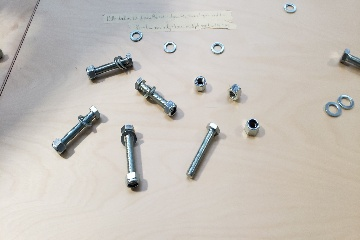Bolt: (183, 118, 223, 181)
FalseAssembly: (47, 102, 104, 158), (119, 122, 144, 190)
FinishedAssembly: (131, 76, 180, 119), (84, 51, 136, 81)
Nut: (242, 116, 263, 139), (227, 84, 244, 103), (190, 76, 209, 91)
Washer: (335, 93, 357, 112), (322, 101, 342, 118), (209, 40, 226, 55), (162, 40, 180, 54), (282, 2, 299, 16), (128, 30, 144, 43)
